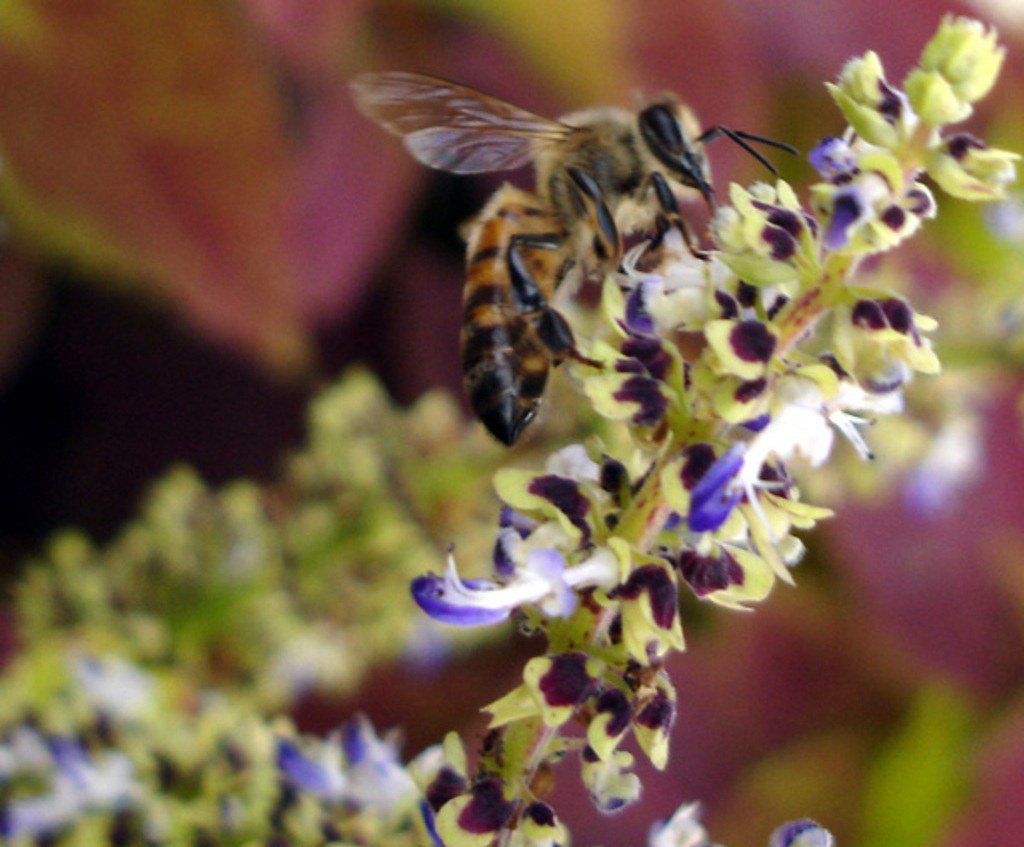bee: (343, 36, 862, 447)
insect: (410, 514, 611, 630), (282, 716, 451, 813), (787, 374, 918, 490), (10, 736, 123, 838), (683, 437, 759, 531), (811, 140, 881, 236)
